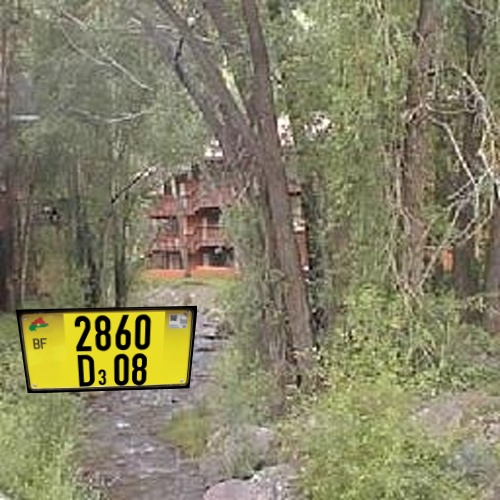plate: (7, 294, 213, 401)
